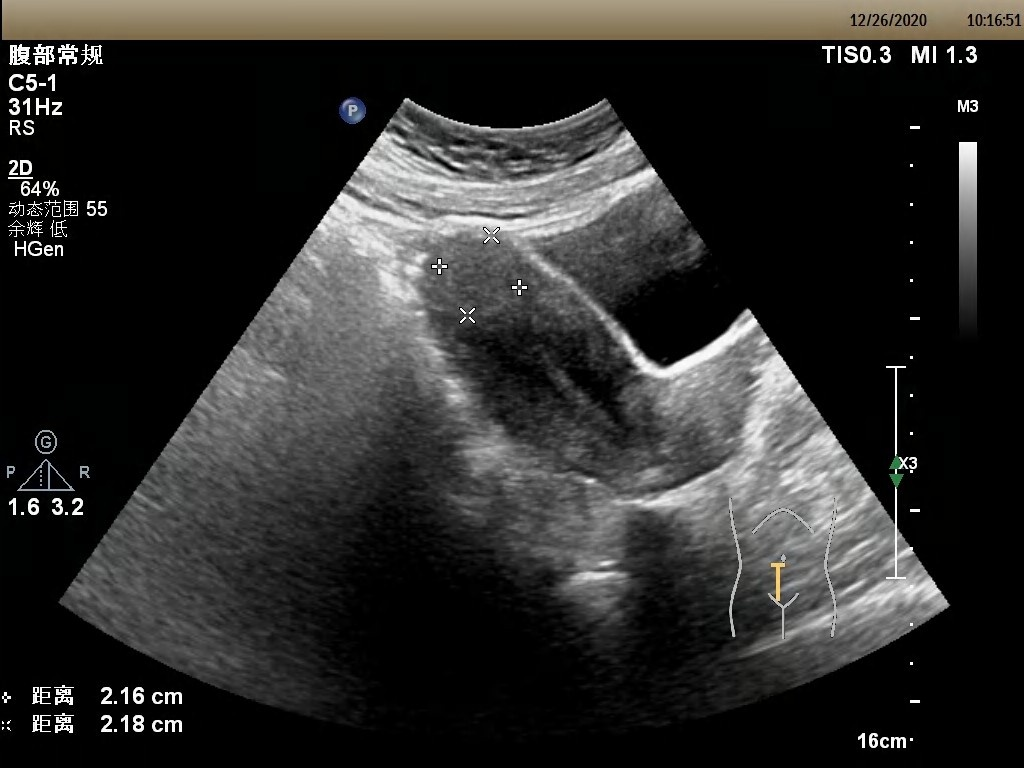肌瘤: (441, 233, 520, 315)
